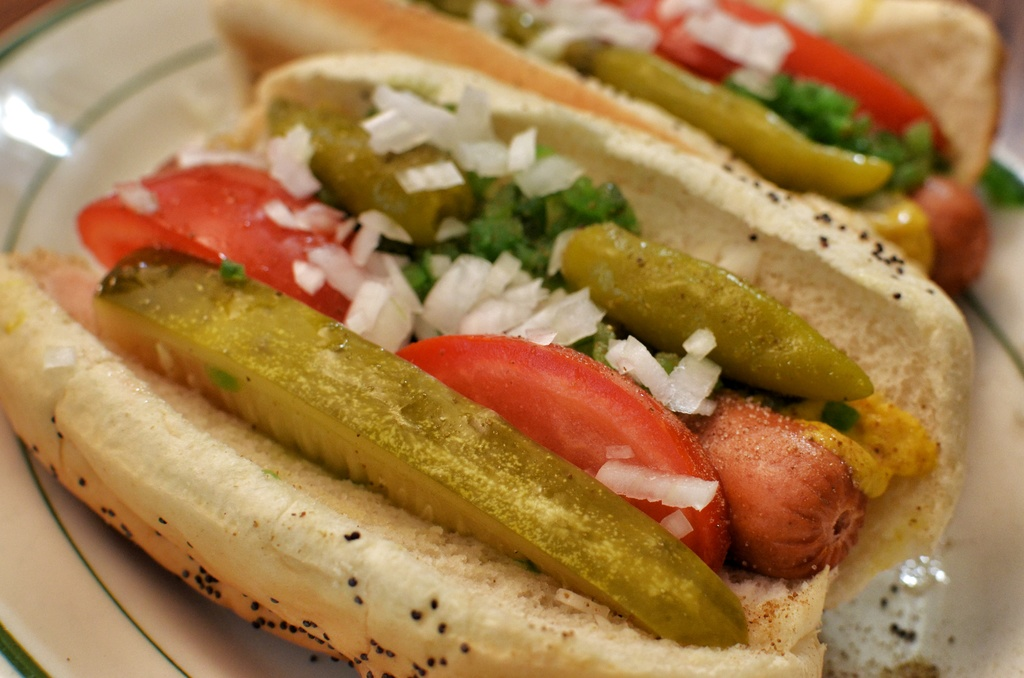hot_dog: (0, 42, 964, 677)
